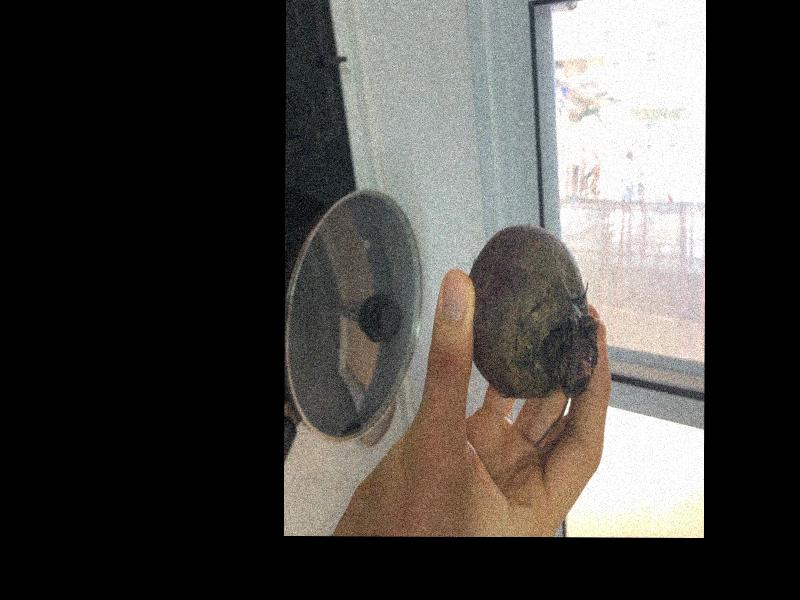Beet: (466, 224, 599, 449)
